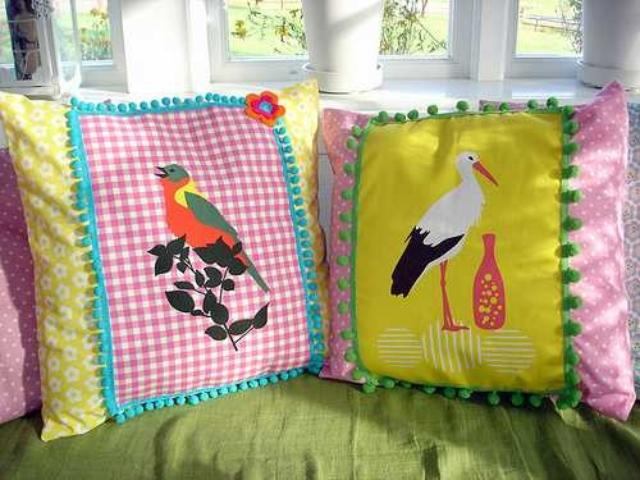pillow: (0, 78, 328, 441), (318, 82, 634, 422)
